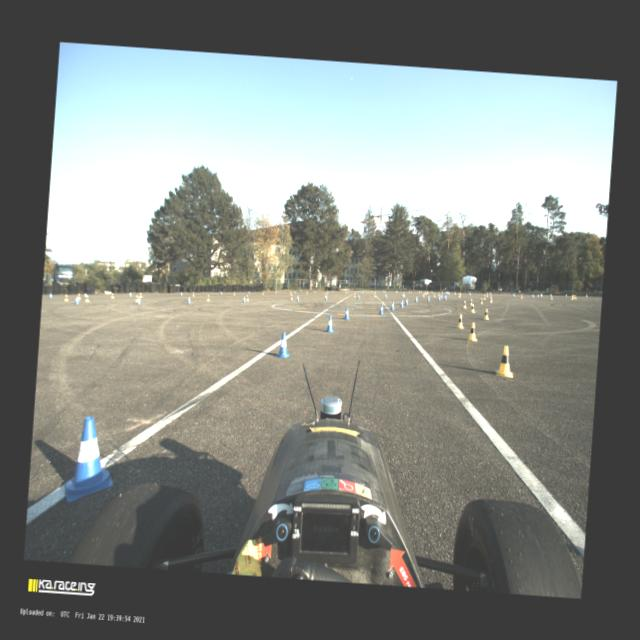blue_cone: (62, 415, 116, 504), (274, 331, 291, 358), (324, 314, 336, 332), (343, 306, 350, 320), (378, 303, 384, 314), (389, 301, 395, 310), (74, 296, 80, 304), (136, 296, 142, 304), (399, 299, 404, 307), (414, 296, 418, 302), (187, 296, 190, 304), (242, 296, 246, 302), (405, 298, 408, 304), (49, 292, 52, 298), (401, 292, 404, 298), (427, 295, 430, 301), (128, 292, 132, 296), (324, 295, 327, 300), (444, 294, 447, 299), (296, 295, 298, 301), (357, 294, 360, 298), (488, 292, 491, 296), (84, 292, 86, 297), (384, 293, 386, 298), (422, 293, 424, 298), (438, 295, 440, 300), (532, 293, 534, 298), (180, 292, 182, 296), (220, 290, 222, 294), (294, 290, 296, 294), (440, 294, 442, 298), (444, 290, 446, 294), (446, 290, 448, 294), (447, 290, 449, 294), (453, 291, 455, 295), (468, 292, 470, 296), (512, 293, 514, 297), (537, 293, 539, 297), (540, 293, 542, 297), (248, 291, 250, 294), (430, 290, 432, 293), (585, 294, 587, 297), (565, 294, 567, 297), (275, 290, 276, 294), (347, 290, 348, 293), (420, 290, 421, 293), (550, 293, 551, 296), (410, 290, 411, 292), (371, 290, 372, 292), (396, 290, 397, 292), (314, 290, 314, 293), (332, 290, 332, 293), (360, 290, 360, 292), (382, 290, 382, 292), (442, 290, 442, 294)
yellow_cone: (495, 346, 515, 378), (467, 321, 478, 341), (456, 314, 464, 329), (482, 308, 490, 320), (84, 294, 90, 302), (462, 300, 467, 308), (470, 304, 475, 312), (64, 294, 69, 301), (206, 294, 210, 301), (77, 293, 81, 299), (135, 294, 138, 302), (480, 296, 483, 304), (469, 298, 472, 305), (110, 293, 114, 298), (139, 292, 142, 298), (246, 294, 249, 300), (483, 294, 486, 300), (570, 295, 573, 300), (290, 294, 292, 300), (354, 292, 356, 298), (490, 296, 492, 302), (550, 294, 552, 300), (458, 292, 461, 296), (433, 292, 435, 297), (458, 293, 460, 298), (486, 292, 488, 297), (574, 294, 576, 299), (192, 292, 194, 296), (233, 291, 235, 295), (262, 290, 264, 294), (306, 290, 308, 294), (326, 290, 328, 294), (374, 292, 376, 296), (402, 292, 404, 296), (424, 290, 426, 294), (438, 291, 440, 295), (520, 294, 522, 298), (344, 290, 346, 293), (426, 291, 428, 294), (324, 293, 325, 298), (290, 290, 291, 294), (374, 289, 375, 293), (384, 290, 386, 292), (418, 290, 419, 294), (362, 290, 363, 293), (408, 290, 409, 292), (395, 290, 396, 292), (574, 294, 574, 298)
